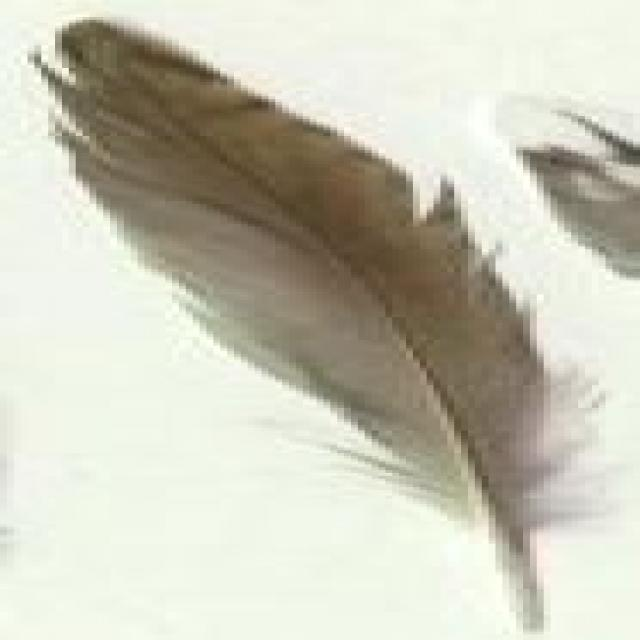feather: (42, 11, 631, 640)
